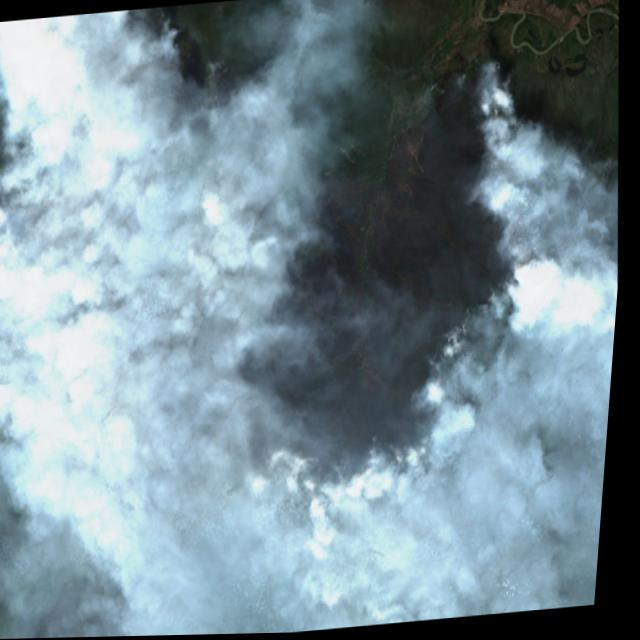fire: (0, 51, 579, 536)
